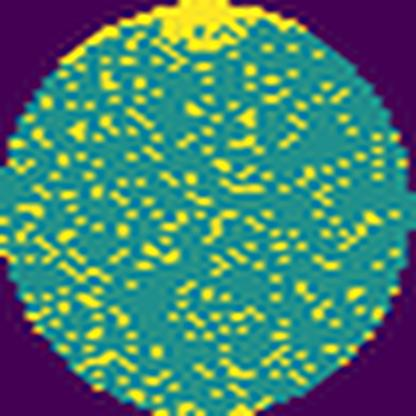Edge-Loc: (61, 0, 310, 65)
